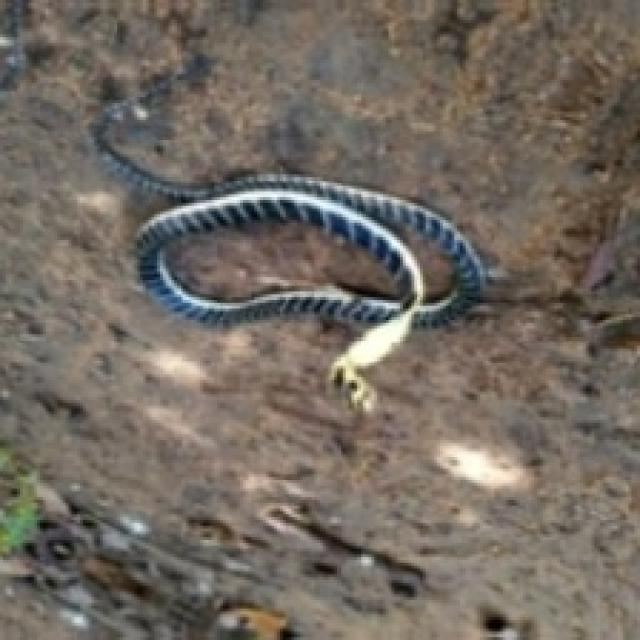king cobra: (94, 57, 483, 406), (174, 214, 397, 297)
